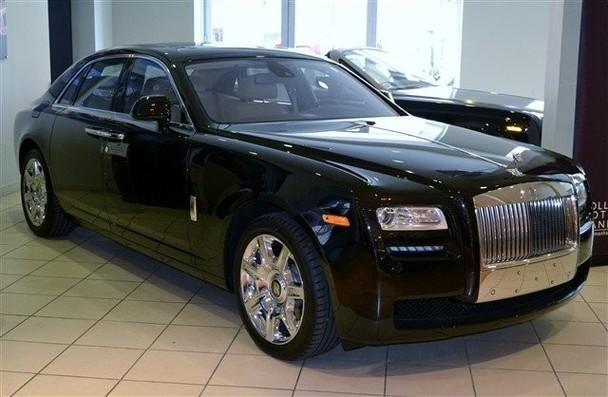car: (14, 44, 600, 354)
